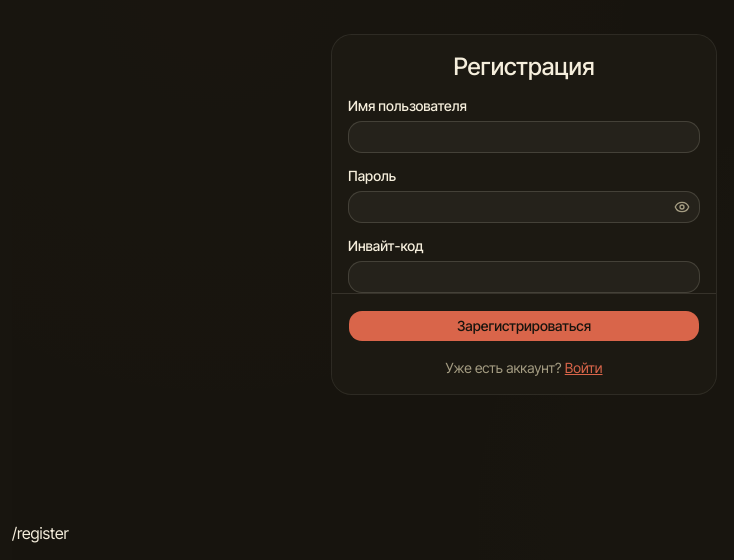
RegisterPage › при 403 показывает 'Неверный инвайт-код'
Type "newbie" into the field labelled "Имя пользователя".
click(524, 137); type("newbie")  # box [348, 121, 700, 153]
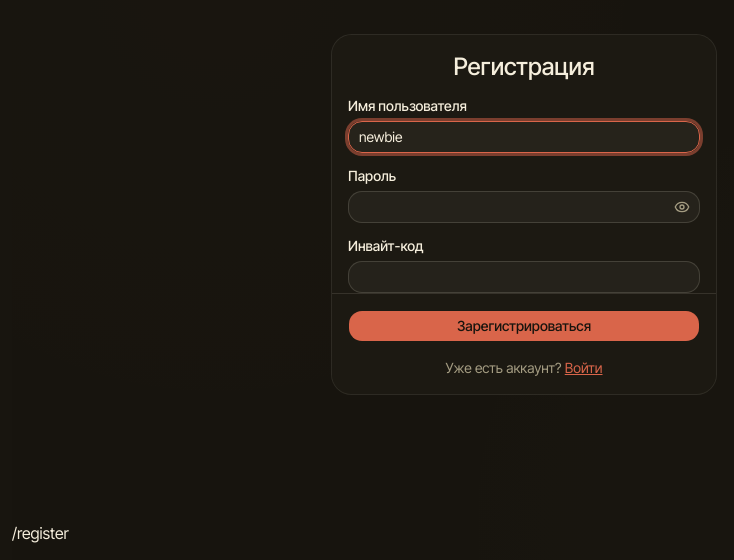
Type "secret123" into the password field labelled "Пароль".
click(524, 207); type("secret123")  # box [348, 191, 700, 223]
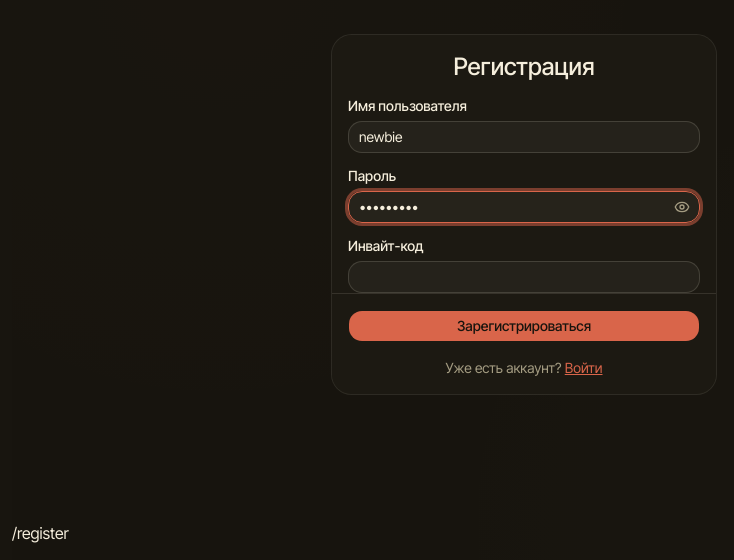
Type "WOLF" into the field labelled "Инвайт-код".
click(524, 277); type("WOLF")  # box [348, 261, 700, 293]
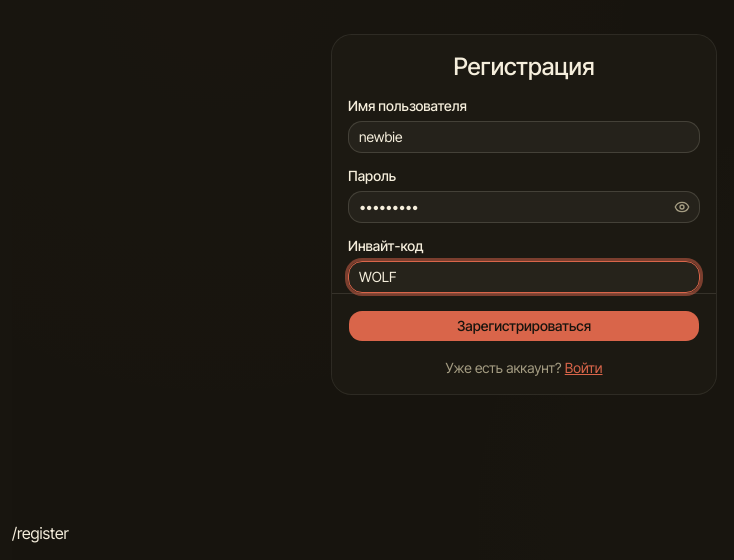
Click the button "Зарегистрироваться".
click(524, 326)  # box [348, 310, 700, 342]
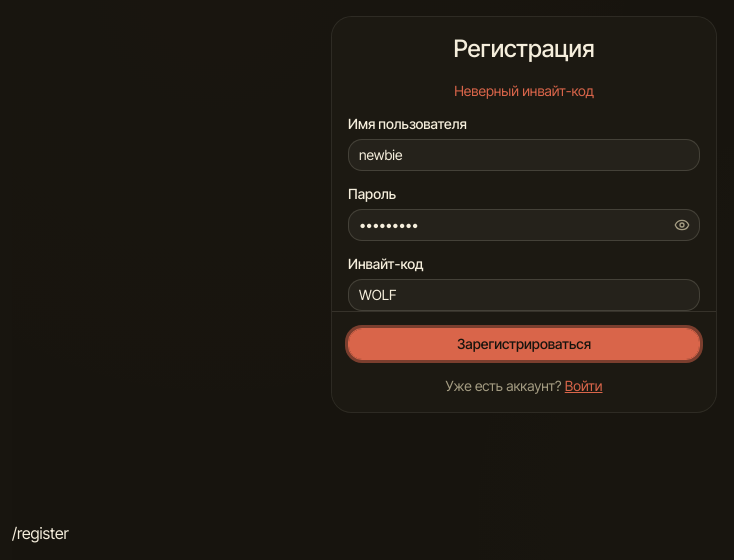
Expected: the text "Неверный инвайт-код" is shown, [454, 82, 594, 99]
